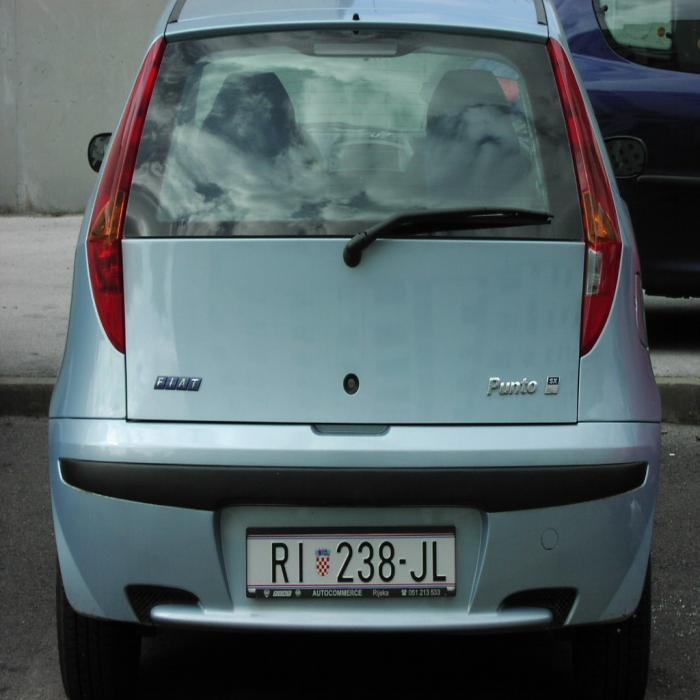number_plate: (246, 537, 454, 584)
